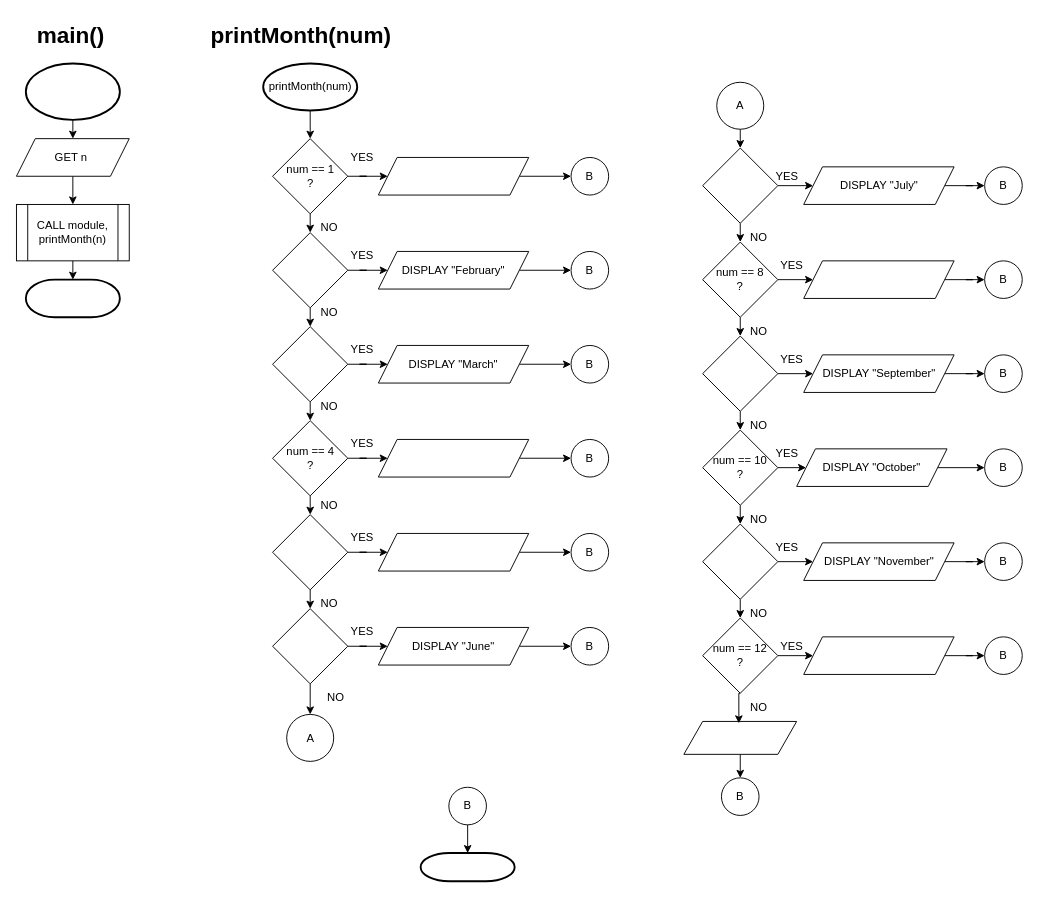
Image size: 1039x898. Some labels were removed from this diagram. The centre of each missing label's shape, as x and y in pixels:
DISPLAY "April": [453,458]
DISPLAY "August": [878,279]
DISPLAY "December": [878,655]
DISPLAY "Invalid": [740,737]
DISPLAY "January": [453,176]
DISPLAY "May": [453,552]
num == 11 ?: [740,561]
num == 2 ?: [310,270]
num == 3 ?: [310,364]
num == 5 ?: [310,552]
num == 6 ?: [310,646]
num == 7 ?: [740,185]
num == 9 ?: [740,373]
RETURN: [467,867]
START: [72,91]
STOP: [72,298]
